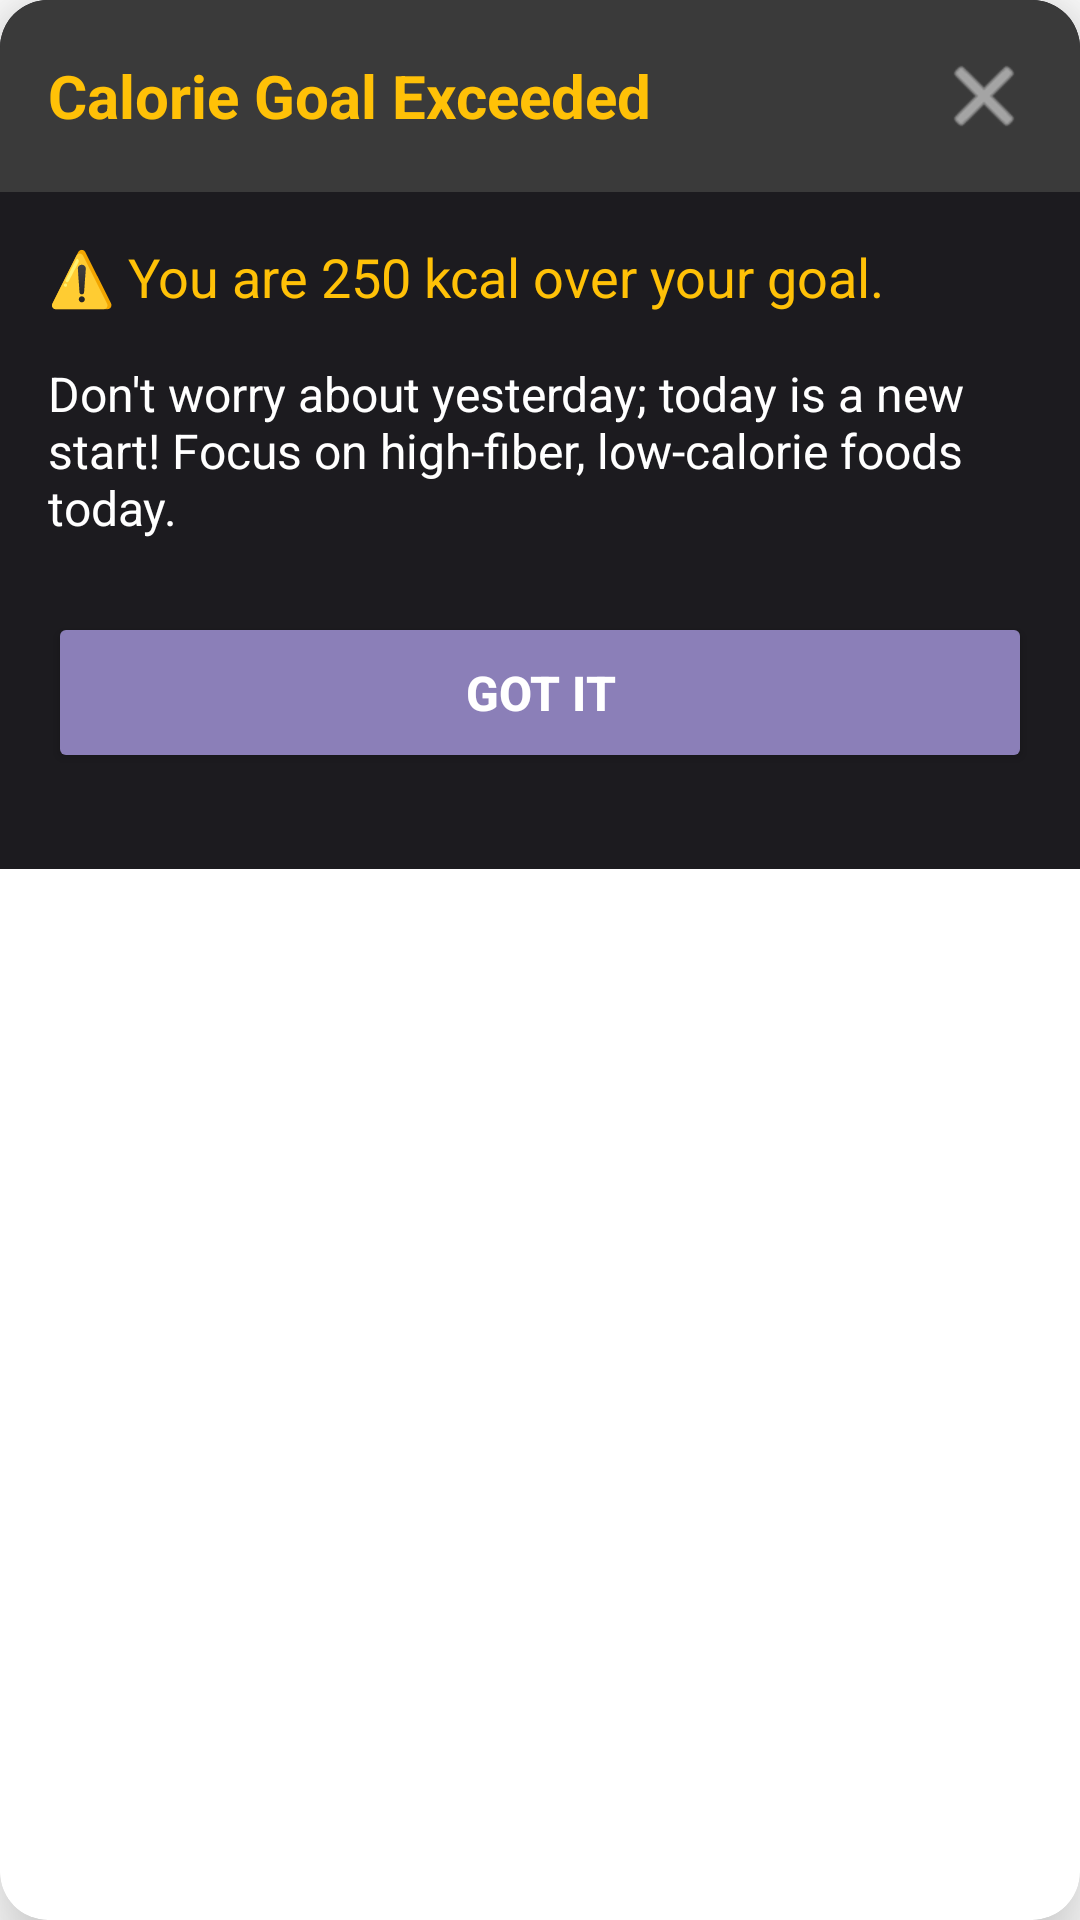

Icon bounding boxes for this 1080*1920 phone screenshot, format (x1, y1, x2, y2):
Close: (954, 66, 1014, 126)
